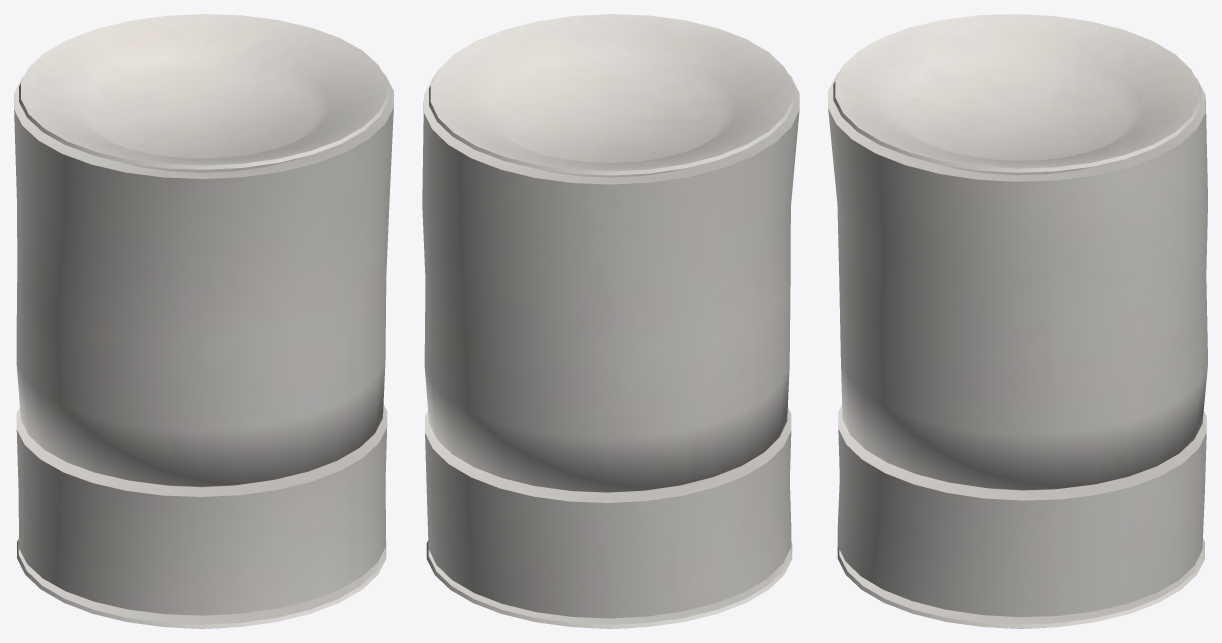
The model's file is T_Kitchen_Plate_Stack_01.glb.
3 views of the same model, side by side, from view 1: azimuth 30°, elevation 25°; view 2: azimuth 150°, elevation 25°; view 3: azimuth 270°, elevation 25° (orthographic).
Visible parts, largest first — view 1: T_Kitchen_Plate_Stack_01; view 2: T_Kitchen_Plate_Stack_01; view 3: T_Kitchen_Plate_Stack_01.
Part boxes in pixels (x1,y1,x2,y2): T_Kitchen_Plate_Stack_01: (14, 14, 393, 628); T_Kitchen_Plate_Stack_01: (422, 14, 799, 628); T_Kitchen_Plate_Stack_01: (828, 14, 1207, 628).
Bounding box in the file's own units: 0.2725 × 0.3897 × 0.2726.
Materials: 1 (1 with a texture image).
